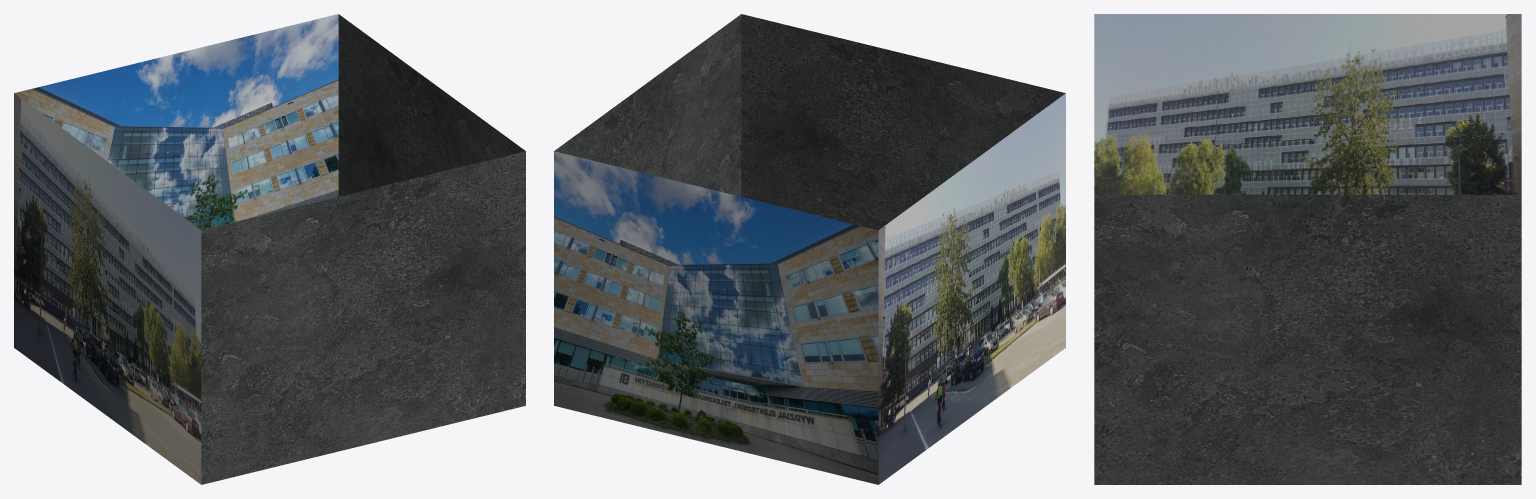
The model's file is Robot4.gltf.
3 views of the same model, side by side, from view 1: azimuth 30°, elevation 25°; view 2: azimuth 150°, elevation 25°; view 3: azimuth 270°, elevation 25° (orthographic). The views are drawn at different scales.
Parts seen in each view (by area): view 1: Plane.003, Plane.005, Plane.002, Plane.001; view 2: Plane.002, Plane.005, Plane.003, Plane.001; view 3: Plane.001, Plane.005.
Boxes of the visible parts, x1,y1,x2,y2 form: Plane.003: (201, 151, 525, 484); Plane.005: (14, 93, 201, 484); Plane.002: (14, 14, 338, 230); Plane.001: (338, 14, 525, 196); Plane.002: (554, 151, 878, 484); Plane.005: (878, 93, 1065, 484); Plane.003: (741, 14, 1065, 230); Plane.001: (554, 14, 741, 196); Plane.001: (1094, 194, 1521, 484); Plane.005: (1094, 14, 1521, 194).
Size of the model in its own units: 80 by 60 by 80.
